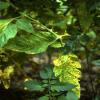Tomato Septoria leaf spot: (3, 29, 63, 56), (52, 47, 82, 98), (13, 15, 38, 35)
